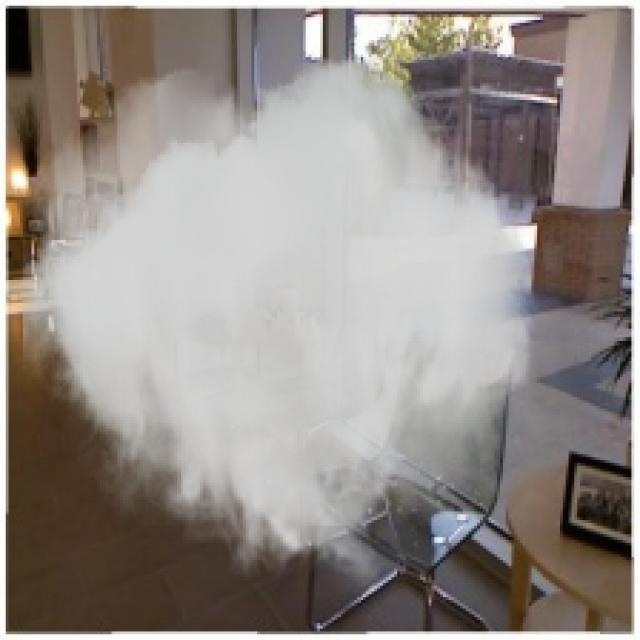Smoke: (23, 57, 540, 592)
